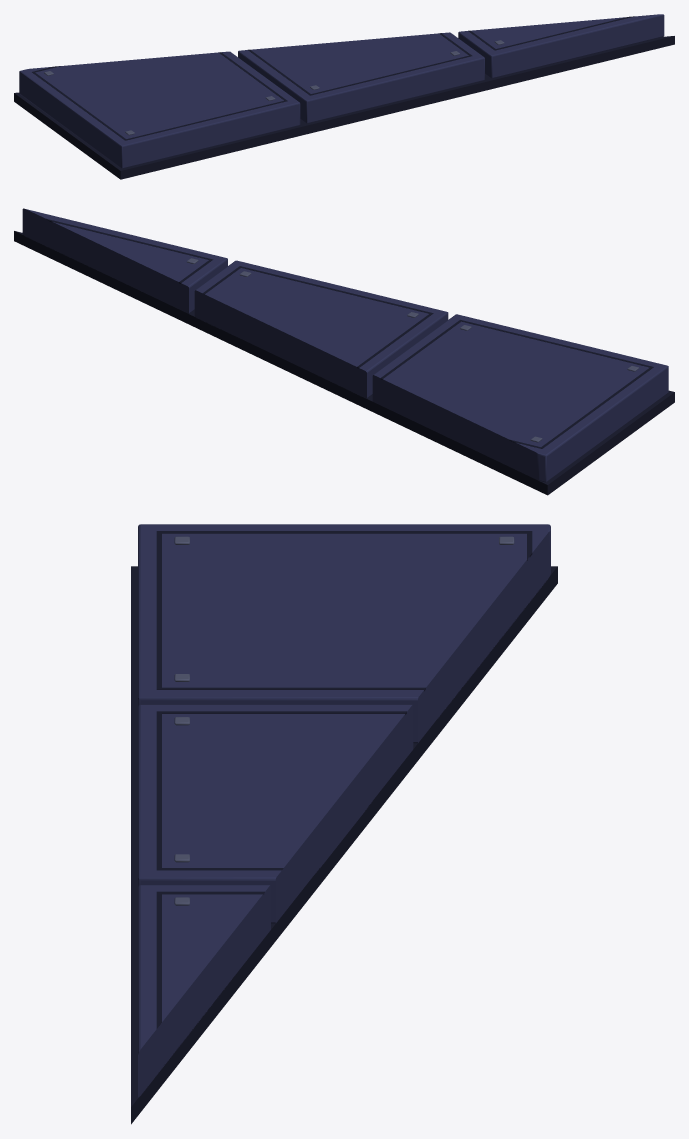
The model's file is roof.slope3.plate.glb.
3 views of the same model, one above another, from view 1: azimuth 30°, elevation 25°; view 2: azimuth 150°, elevation 25°; view 3: azimuth 270°, elevation 25° (orthographic). The views are drawn at different scales.
Visible parts, largest first — view 1: GEO-roof.slope3.plate; view 2: GEO-roof.slope3.plate; view 3: GEO-roof.slope3.plate.
Boxes of the visible parts, x1=… form: GEO-roof.slope3.plate: x1=14, y1=14, x2=674, y2=179; GEO-roof.slope3.plate: x1=14, y1=208, x2=674, y2=495; GEO-roof.slope3.plate: x1=131, y1=524, x2=557, y2=1124.
Size of the model in its own units: 3 by 0.17 by 1.
